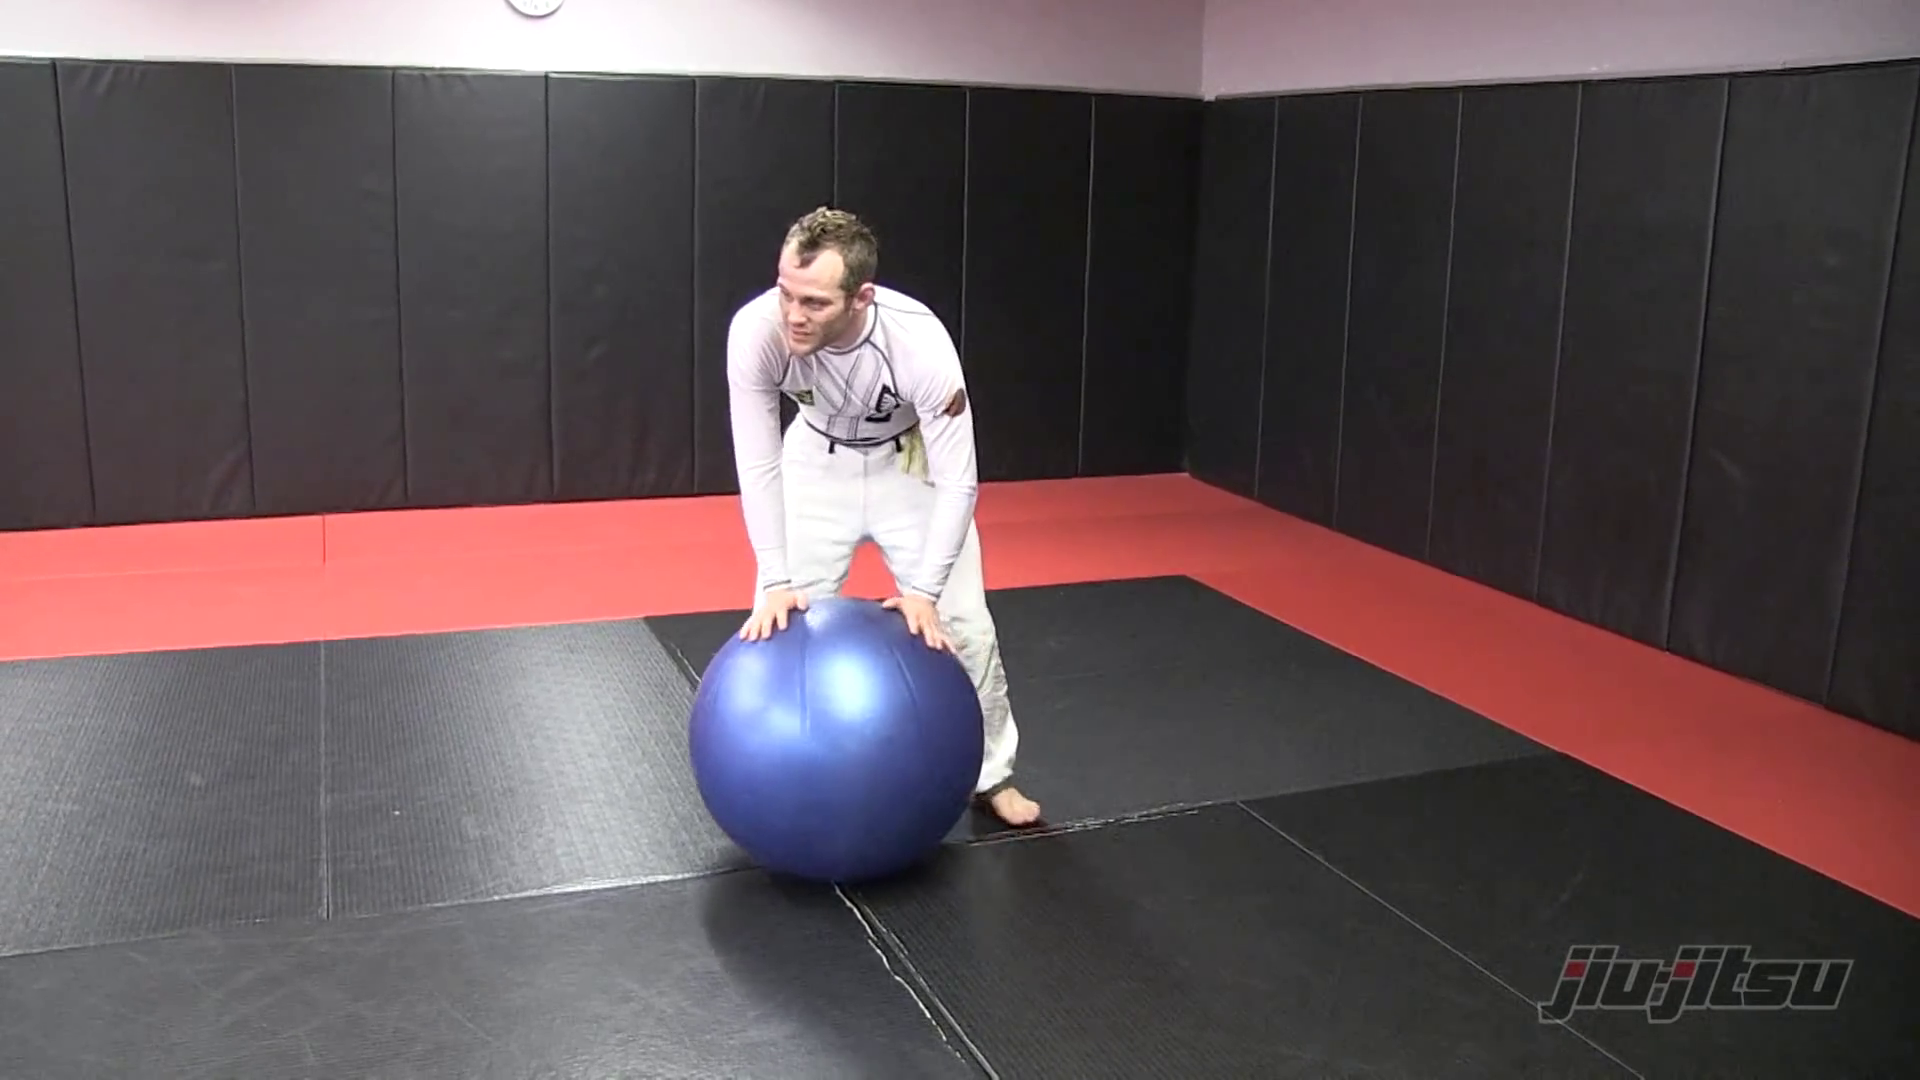yogaball: (665, 576, 1014, 919)
